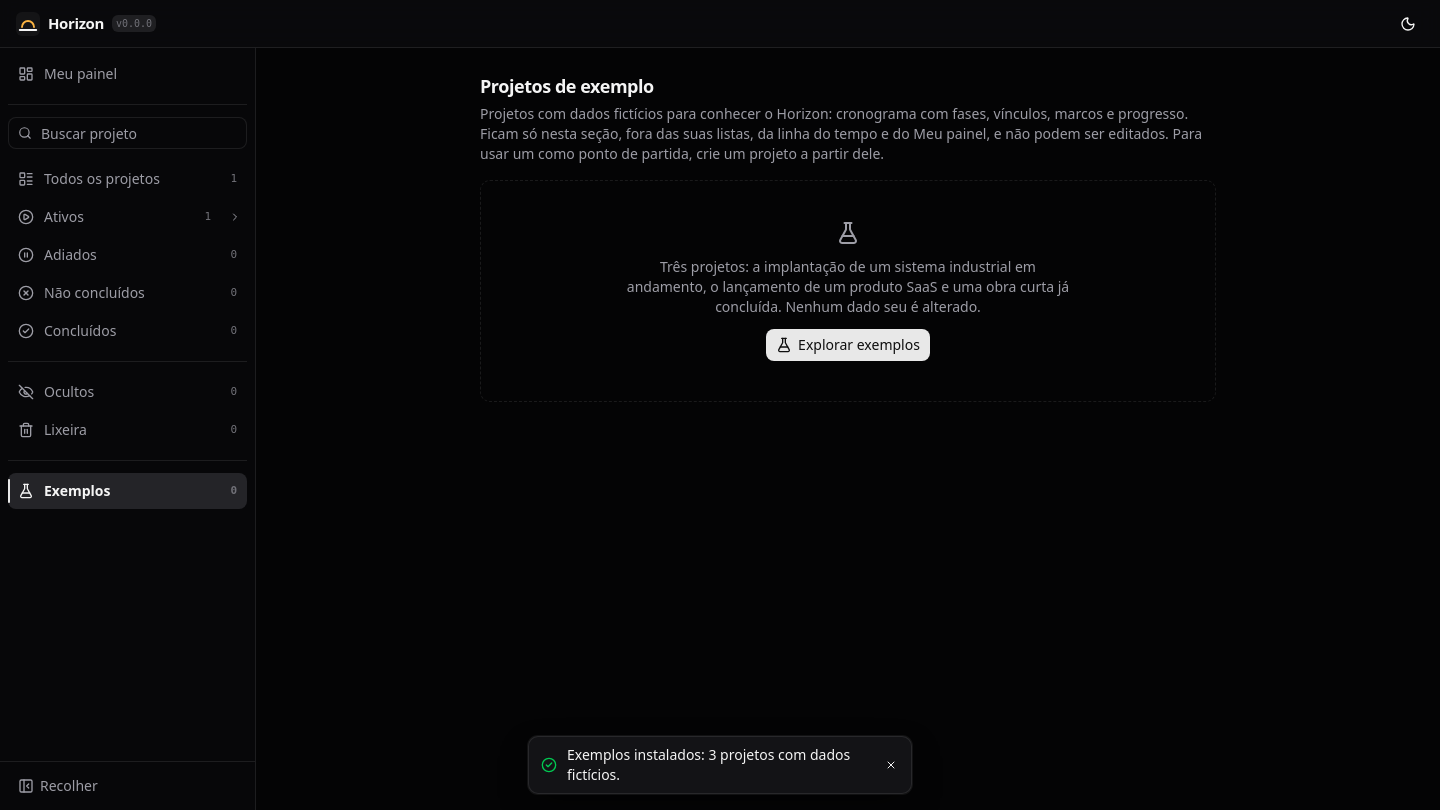
sample projects › creates a real project from a sample, then removes only the samples
The image size is (1440, 810).
Click the button "Explorar exemplos": coordinates (848, 345) [766,329,930,361]
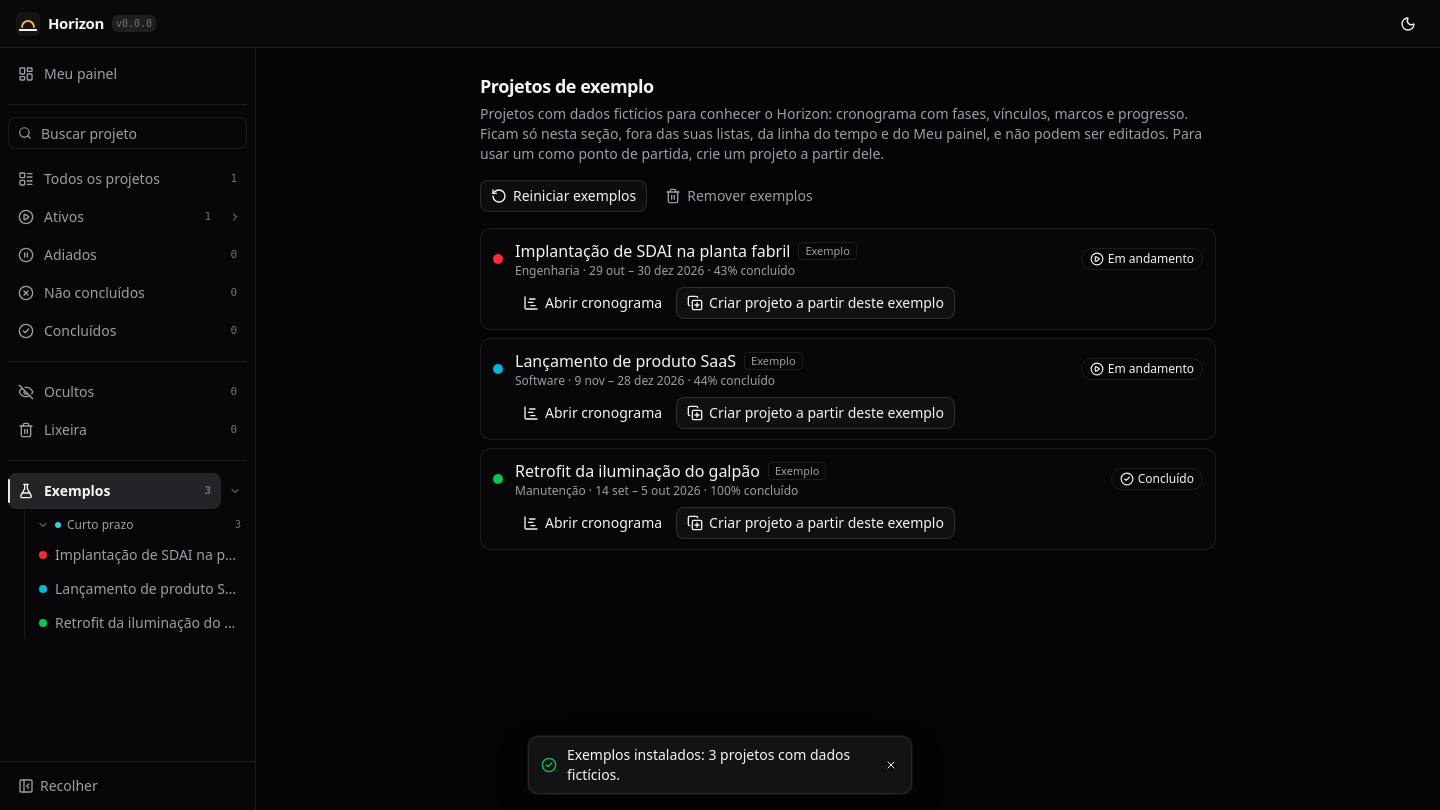
Click the button named "Criar projeto a partir de “Implantação de SDAI na planta fabril”": coordinates (816, 303) [676,287,955,319]
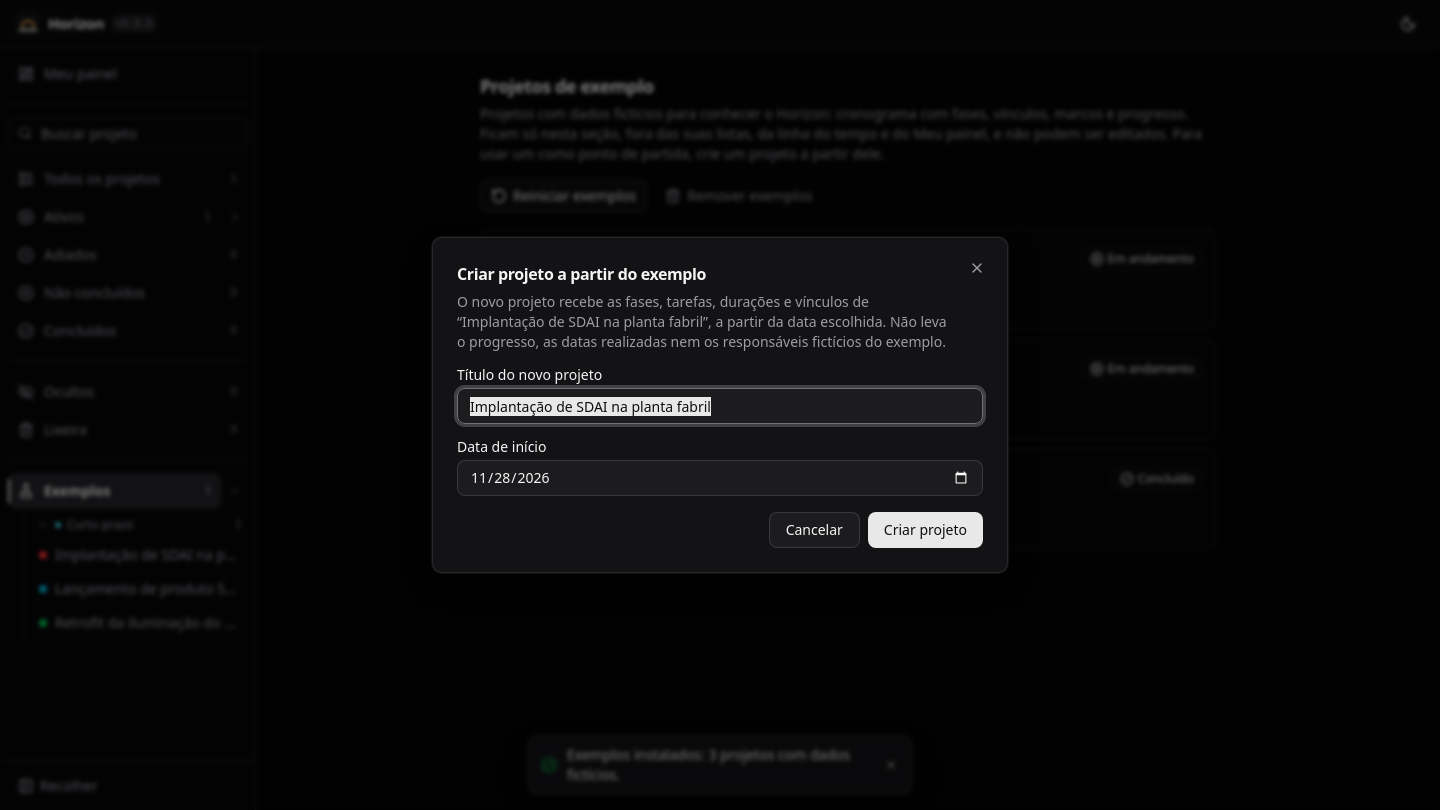
Replace the text in the field labelled "Título do novo projeto" with "SDAI planta 2": coordinates (720, 406) [457,388,983,424]
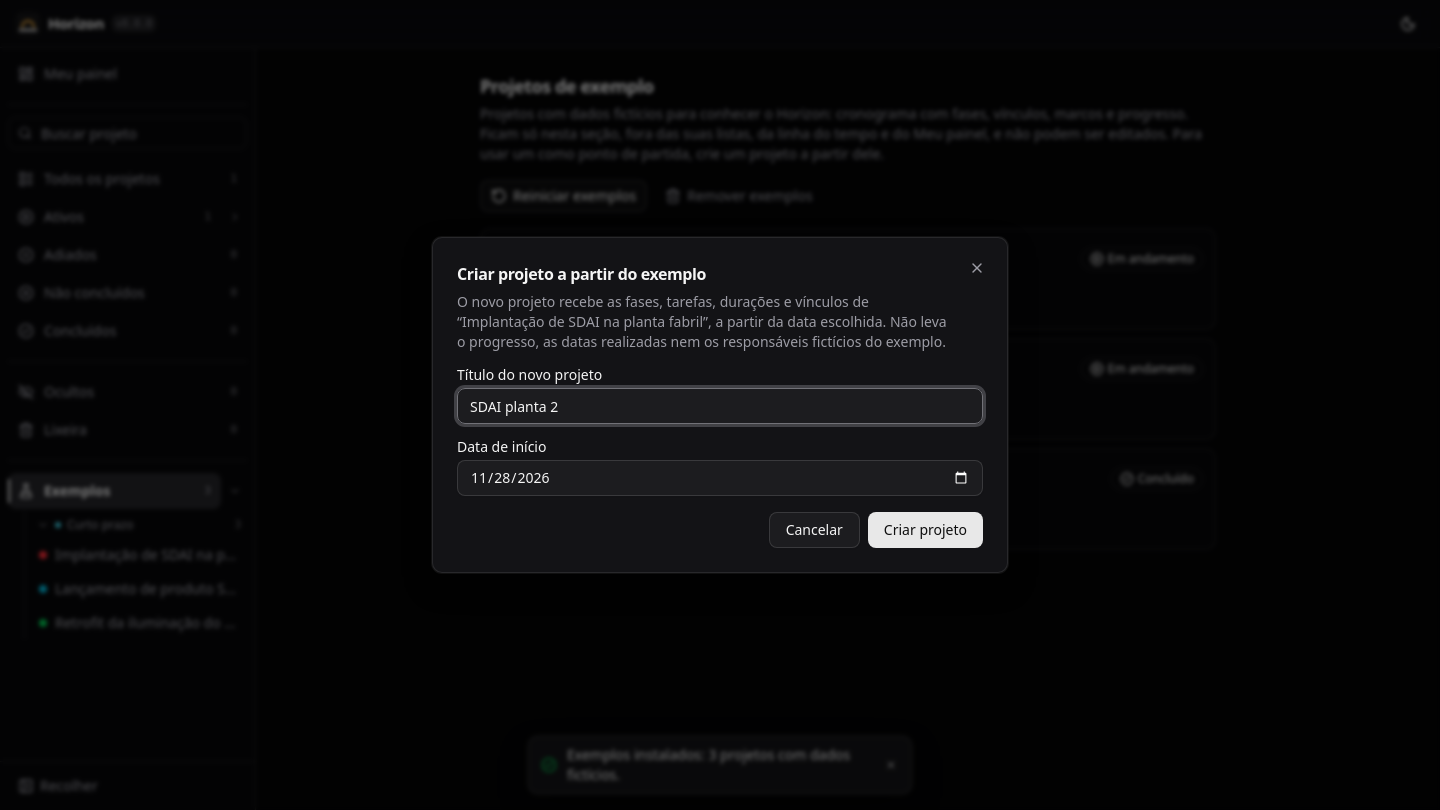
Click the button "Criar projeto": coordinates (925, 530) [868,512,983,548]
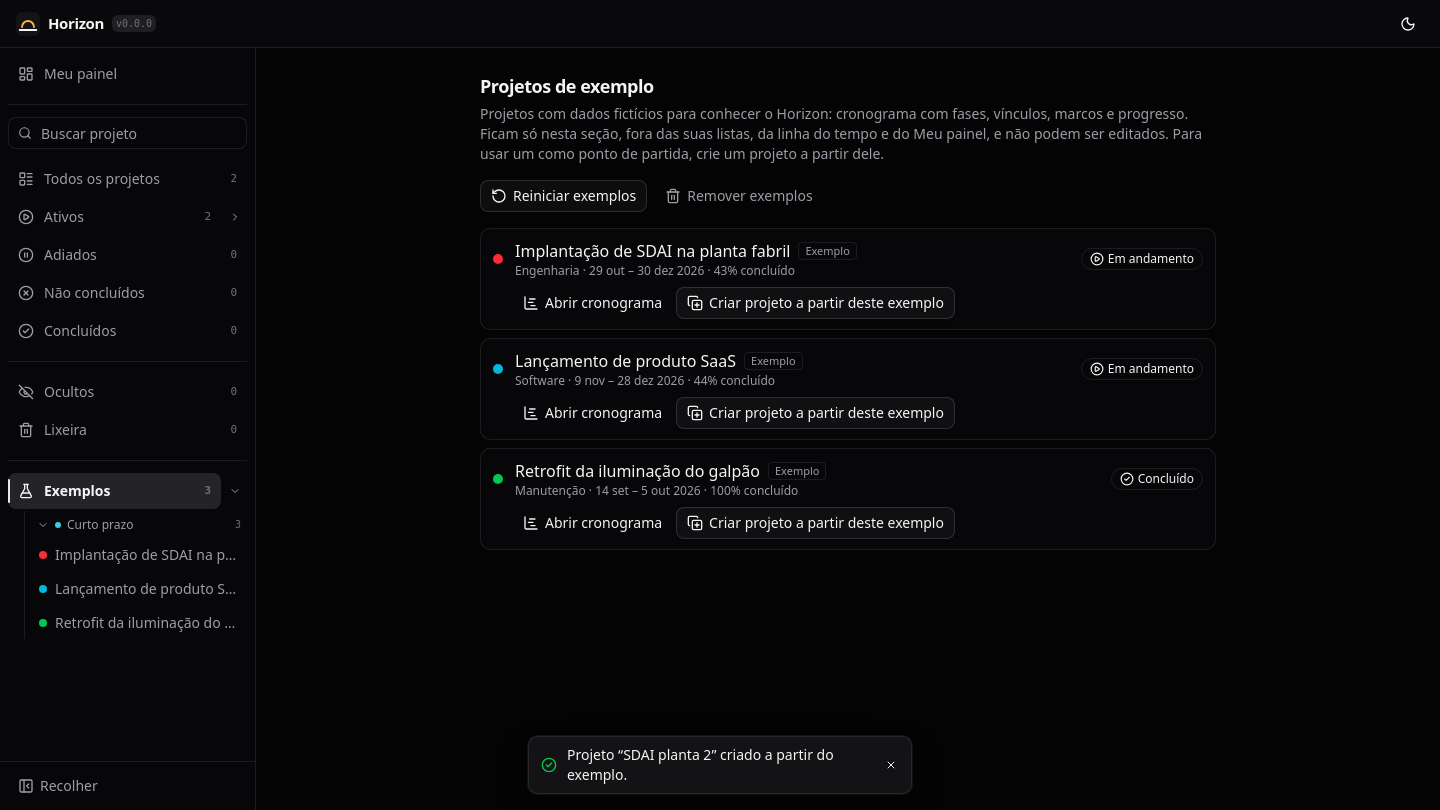
Click the button "Remover exemplos": coordinates (739, 196) [655,180,823,212]
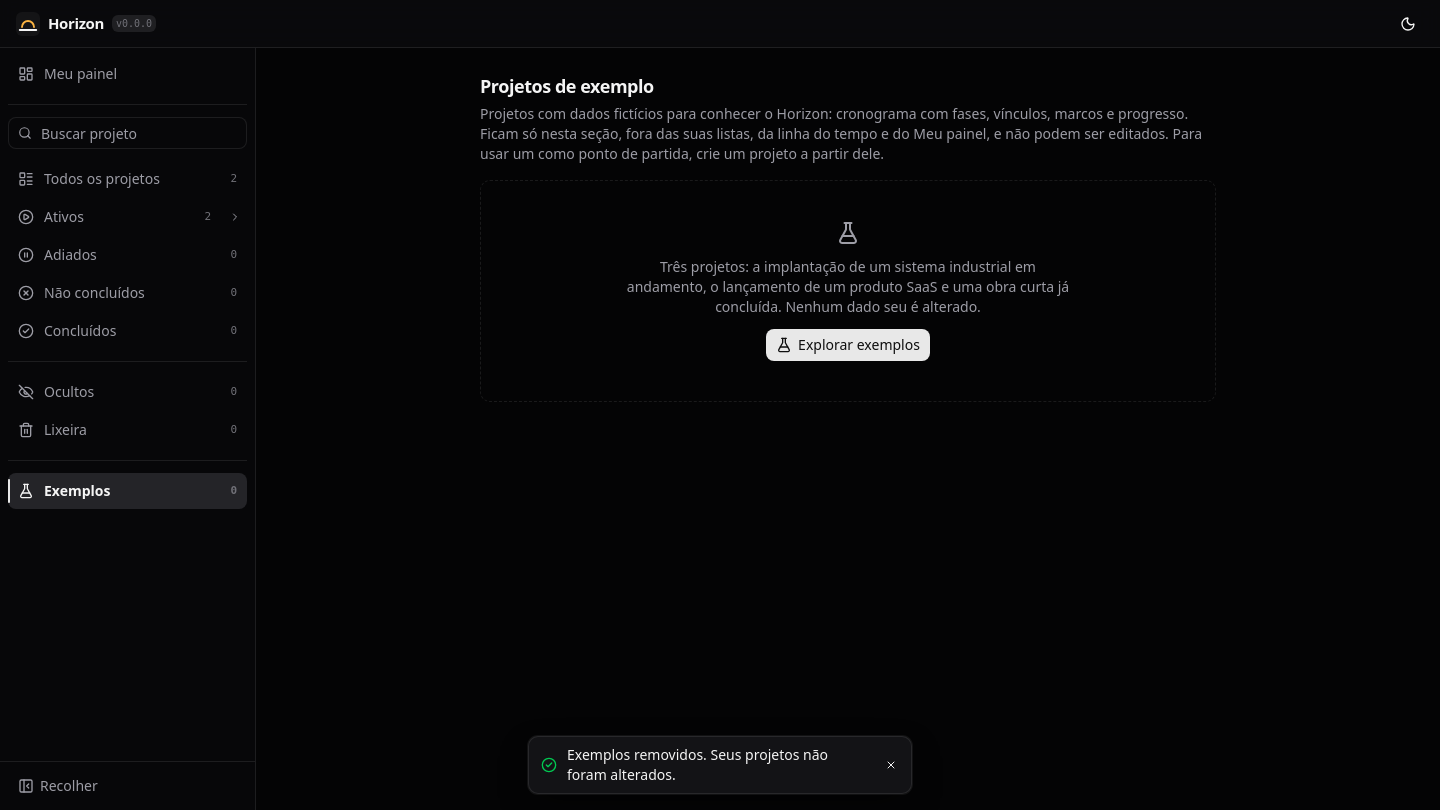
Check: the button "Explorar exemplos" is shown, box [766,329,930,361]
